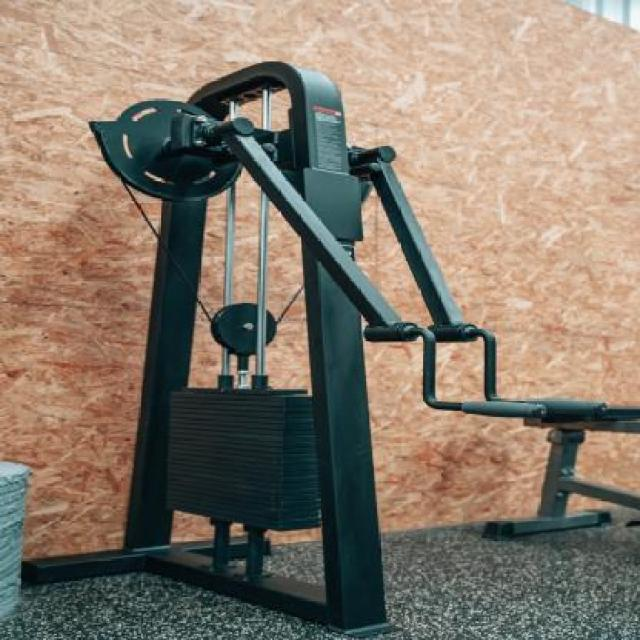lateral raises machine: (86, 59, 608, 636)
